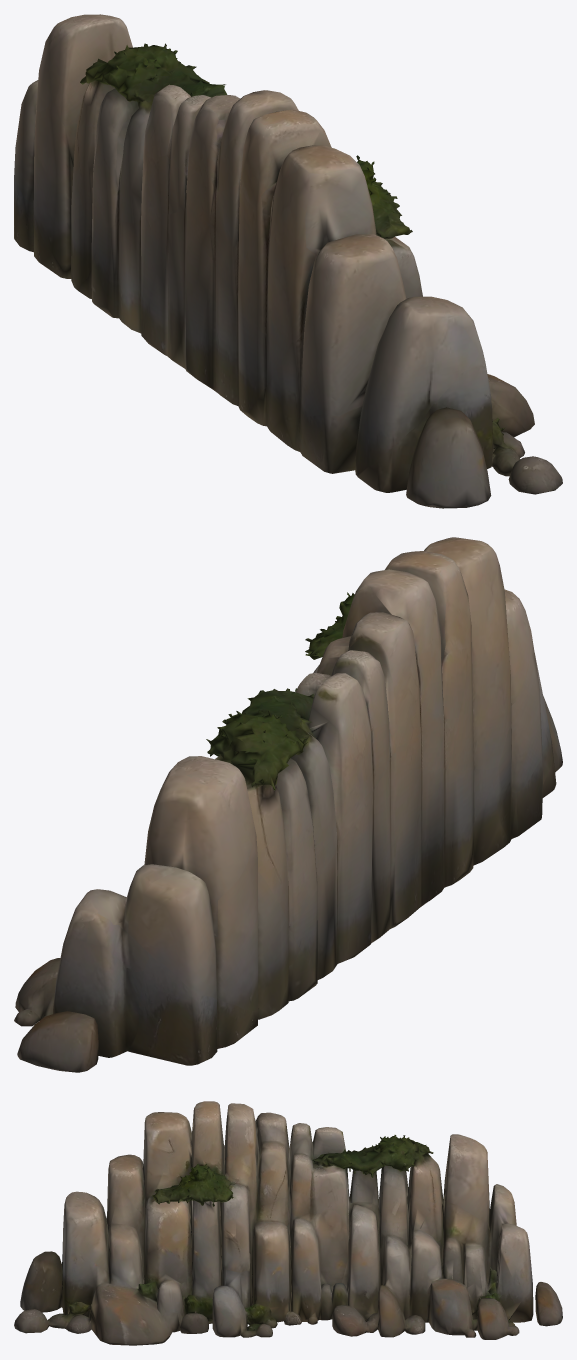
The model's file is rock_wall.glb.
3 renders of one model, top to bottom at view 1: azimuth 30°, elevation 25°; view 2: azimuth 150°, elevation 25°; view 3: azimuth 270°, elevation 25°, orthographic. The views are drawn at different scales.
Visible parts, largest first — view 1: tripo_node_26596dfa-fd96-4feb-8a6f-5b8460b829e5; view 2: tripo_node_26596dfa-fd96-4feb-8a6f-5b8460b829e5; view 3: tripo_node_26596dfa-fd96-4feb-8a6f-5b8460b829e5.
Boxes of the visible parts, <box> form: tripo_node_26596dfa-fd96-4feb-8a6f-5b8460b829e5: <box>14,14,562,508</box>; tripo_node_26596dfa-fd96-4feb-8a6f-5b8460b829e5: <box>14,537,562,1072</box>; tripo_node_26596dfa-fd96-4feb-8a6f-5b8460b829e5: <box>14,1101,562,1345</box>.
Size of the model in its own units: 0.2821 by 0.3747 by 0.9993.
1 material, 1 textured.
